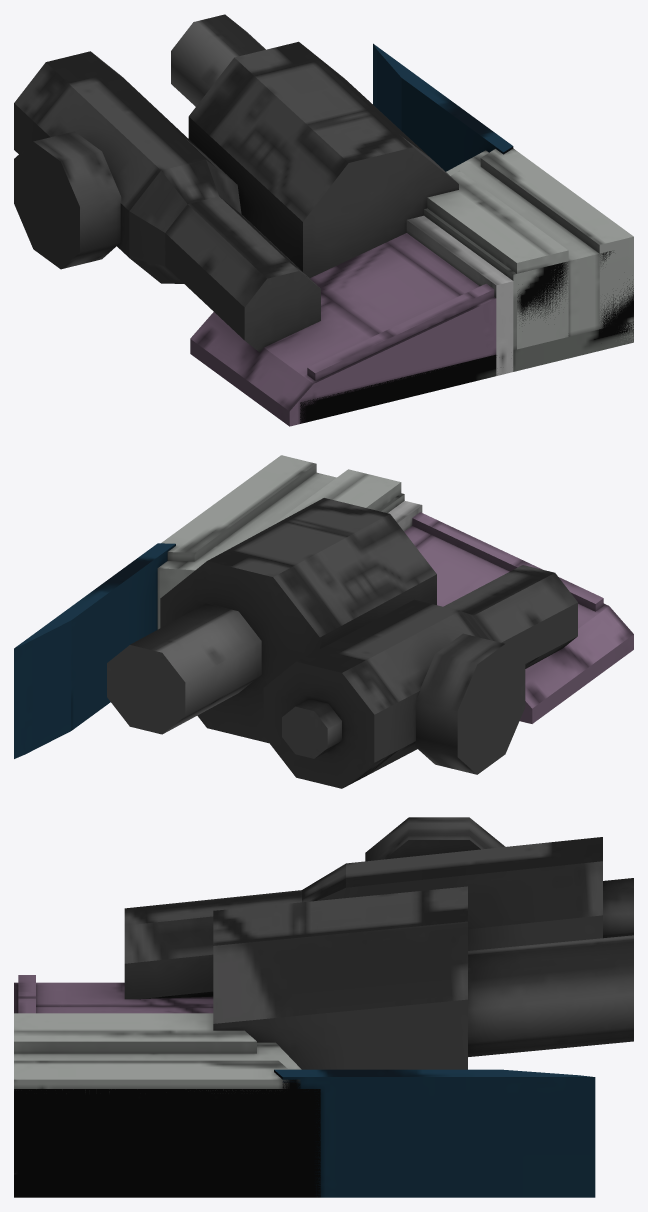
The model's file is newshb-77.glb.
3 views of the same model, one above another, from view 1: azimuth 30°, elevation 25°; view 2: azimuth 150°, elevation 25°; view 3: azimuth 270°, elevation 25° (orthographic). The views are drawn at different scales.
Visible parts, largest first — view 1: newshb-77; view 2: newshb-77; view 3: newshb-77.
Part boxes in pixels (x1,y1,x2,y2): newshb-77: (14,14,633,426); newshb-77: (14,455,633,788); newshb-77: (14,817,633,1197).
Size of the model in its own units: 1.92 by 0.8557 by 2.33.
7 materials, 7 textured.
